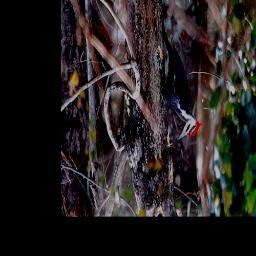Woodpecker: (161, 16, 205, 141)
